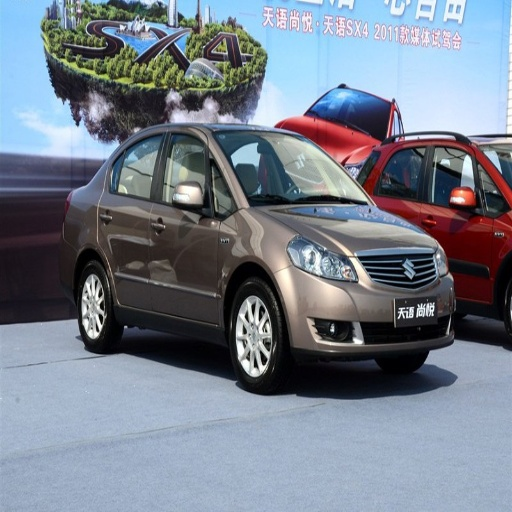front_bumper: (280, 251, 454, 359)
front_right_door: (151, 129, 234, 324)
front_right_light: (287, 236, 357, 282)
